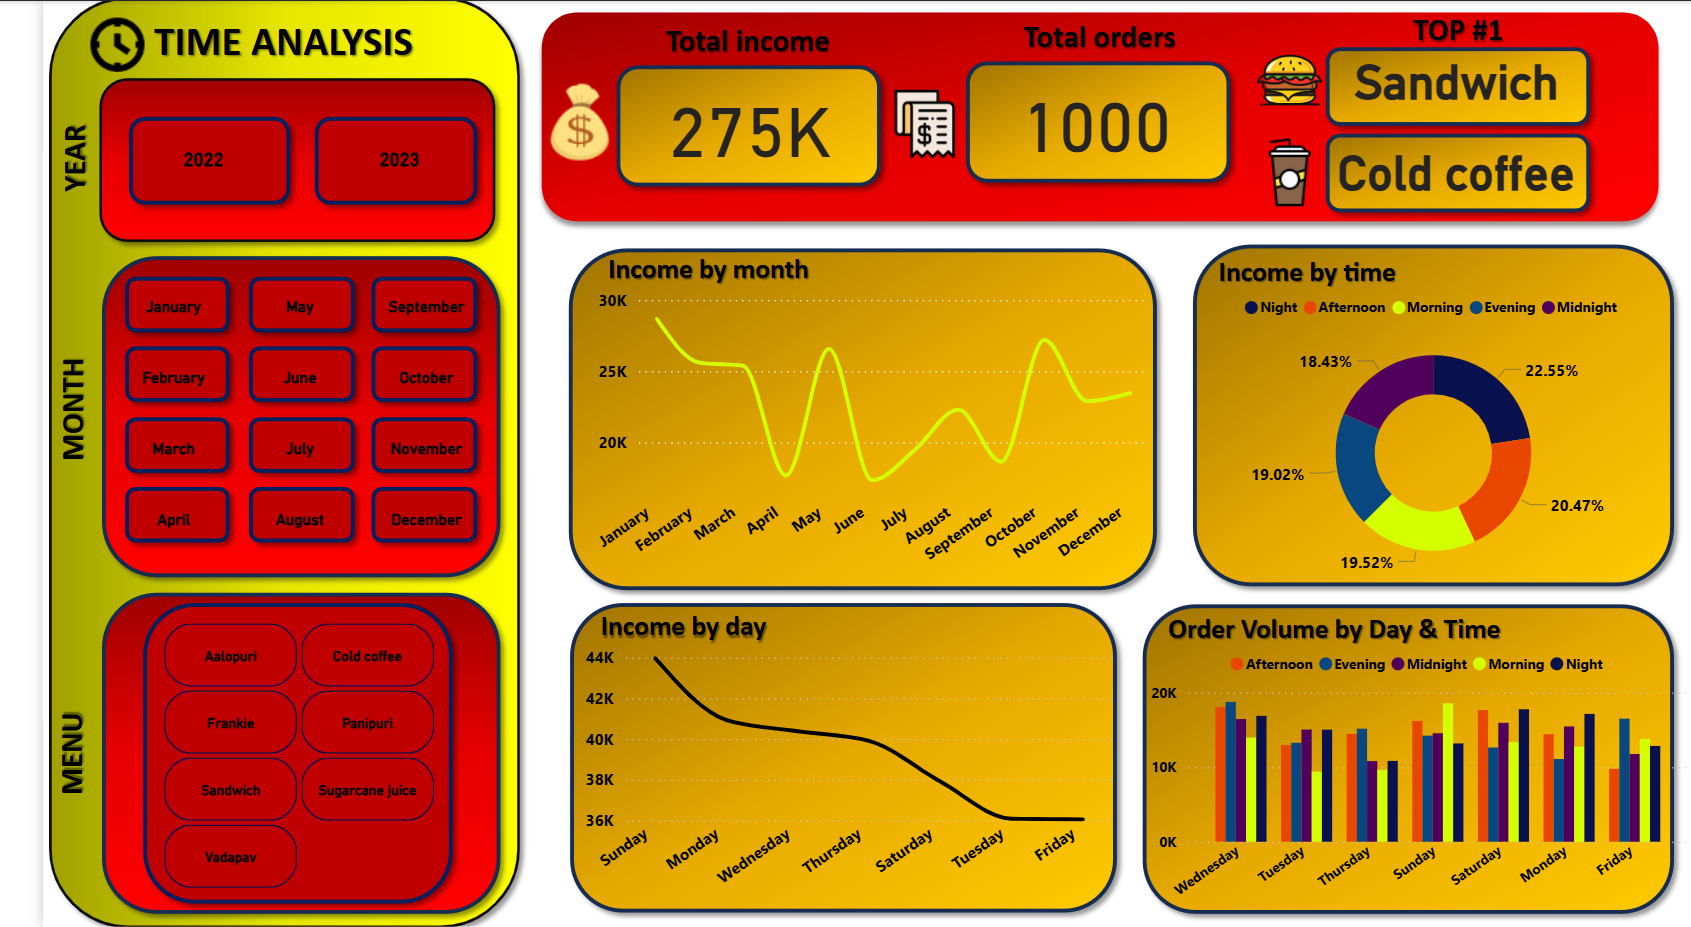

This screenshot's page, from the dashboard's own definition file:
{"tool":"powerbi","page":{"name":"Time Analysis","canvas":[1280,720],"ordinal":0},"visuals":[{"type":"card","fields":{"Values":["Sum(fast food cleaned (2).transaction_amount)"]},"box":[448.2,43.2,201.4,103.3],"z":0},{"type":"card","fields":{"Values":["Count(fast food cleaned (2).order_id)"]},"box":[717.1,43.2,199.3,96],"z":1000},{"type":"lineChart","fields":{"Category":["fast food cleaned (2).order_date.Variation.Date Hierarchy.Month"],"Y":["Sum(fast food cleaned (2).transaction_amount)"]},"box":[413.9,218.1,447.8,236.5],"z":2000},{"type":"advancedSlicerVisual","fields":{"Values":["fast food cleaned (2).order_date.Variation.Date Hierarchy.Year"]},"box":[47.7,59.7,306.6,125.3],"z":3000},{"type":"advancedSlicerVisual","fields":{"Values":["fast food cleaned (2).order_date.Variation.Date Hierarchy.Month"]},"box":[51.2,208.1,298.8,222.1],"z":4000},{"type":"lineChart","fields":{"Category":["fast food cleaned (2).DayName"],"Y":["Sum(fast food cleaned (2).transaction_amount)"]},"box":[414,495.4,419.8,209.3],"z":5000},{"type":"donutChart","fields":{"Y":["Sum(fast food cleaned (2).transaction_amount)"],"Category":["fast food cleaned (2).time_of_sale"]},"box":[894.7,219.1,367.4,235.5],"z":6000},{"type":"advancedSlicerVisual","fields":{"Values":["fast food cleaned (2).item_name"]},"box":[89.5,477.9,220.9,215.1],"z":7000},{"type":"card","fields":{"Values":["fast food cleaned (2).Top Product"]},"box":[994.2,95.3,203.5,69.8],"z":8000},{"type":"card","fields":{"Values":["fast food cleaned (2).Top Product"]},"box":[986,16.3,220.9,86],"z":9000},{"type":"lineClusteredColumnComboChart","fields":{"Category":["fast food cleaned (2).DayName"],"Y":["Sum(fast food cleaned (2).order_id)"],"Series":["fast food cleaned (2).time_of_sale"]},"box":[853.5,495.4,426.7,209.3],"z":10000}]}

Visuals, with their boxes in screenshot pixels (x1, y1, x2, y2), scaled from the page's 1280x720 canvas onto the 1691x927 screenshot:
card - Sum(fast food cleaned (2).transaction_amount): region(592, 56, 858, 189)
card - Count(fast food cleaned (2).order_id): region(947, 56, 1211, 179)
lineChart - fast food cleaned (2).order_date.Variation.Date Hierarchy.Month x Sum(fast food cleaned (2).transaction_amount): region(547, 281, 1138, 585)
advancedSlicerVisual - fast food cleaned (2).order_date.Variation.Date Hierarchy.Year: region(63, 77, 468, 238)
advancedSlicerVisual - fast food cleaned (2).order_date.Variation.Date Hierarchy.Month: region(68, 268, 462, 554)
lineChart - fast food cleaned (2).DayName x Sum(fast food cleaned (2).transaction_amount): region(547, 638, 1102, 907)
donutChart - Sum(fast food cleaned (2).transaction_amount) x fast food cleaned (2).time_of_sale: region(1182, 282, 1667, 585)
advancedSlicerVisual - fast food cleaned (2).item_name: region(118, 615, 410, 892)
card - fast food cleaned (2).Top Product: region(1313, 123, 1582, 213)
card - fast food cleaned (2).Top Product: region(1303, 21, 1594, 132)
lineClusteredColumnComboChart - fast food cleaned (2).DayName x Sum(fast food cleaned (2).order_id): region(1128, 638, 1690, 907)
